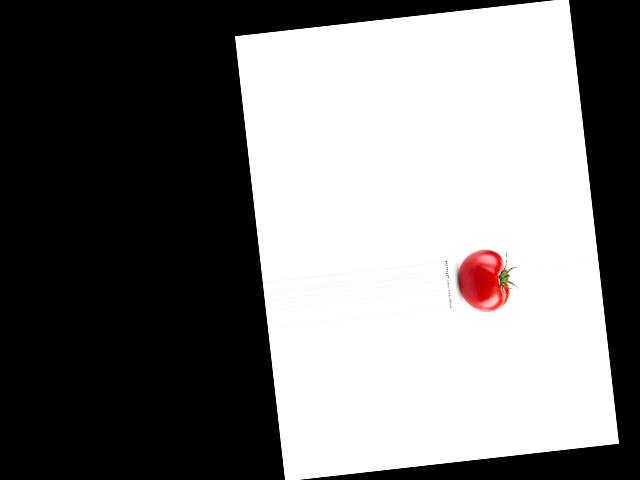tomato: (456, 247, 510, 314)
